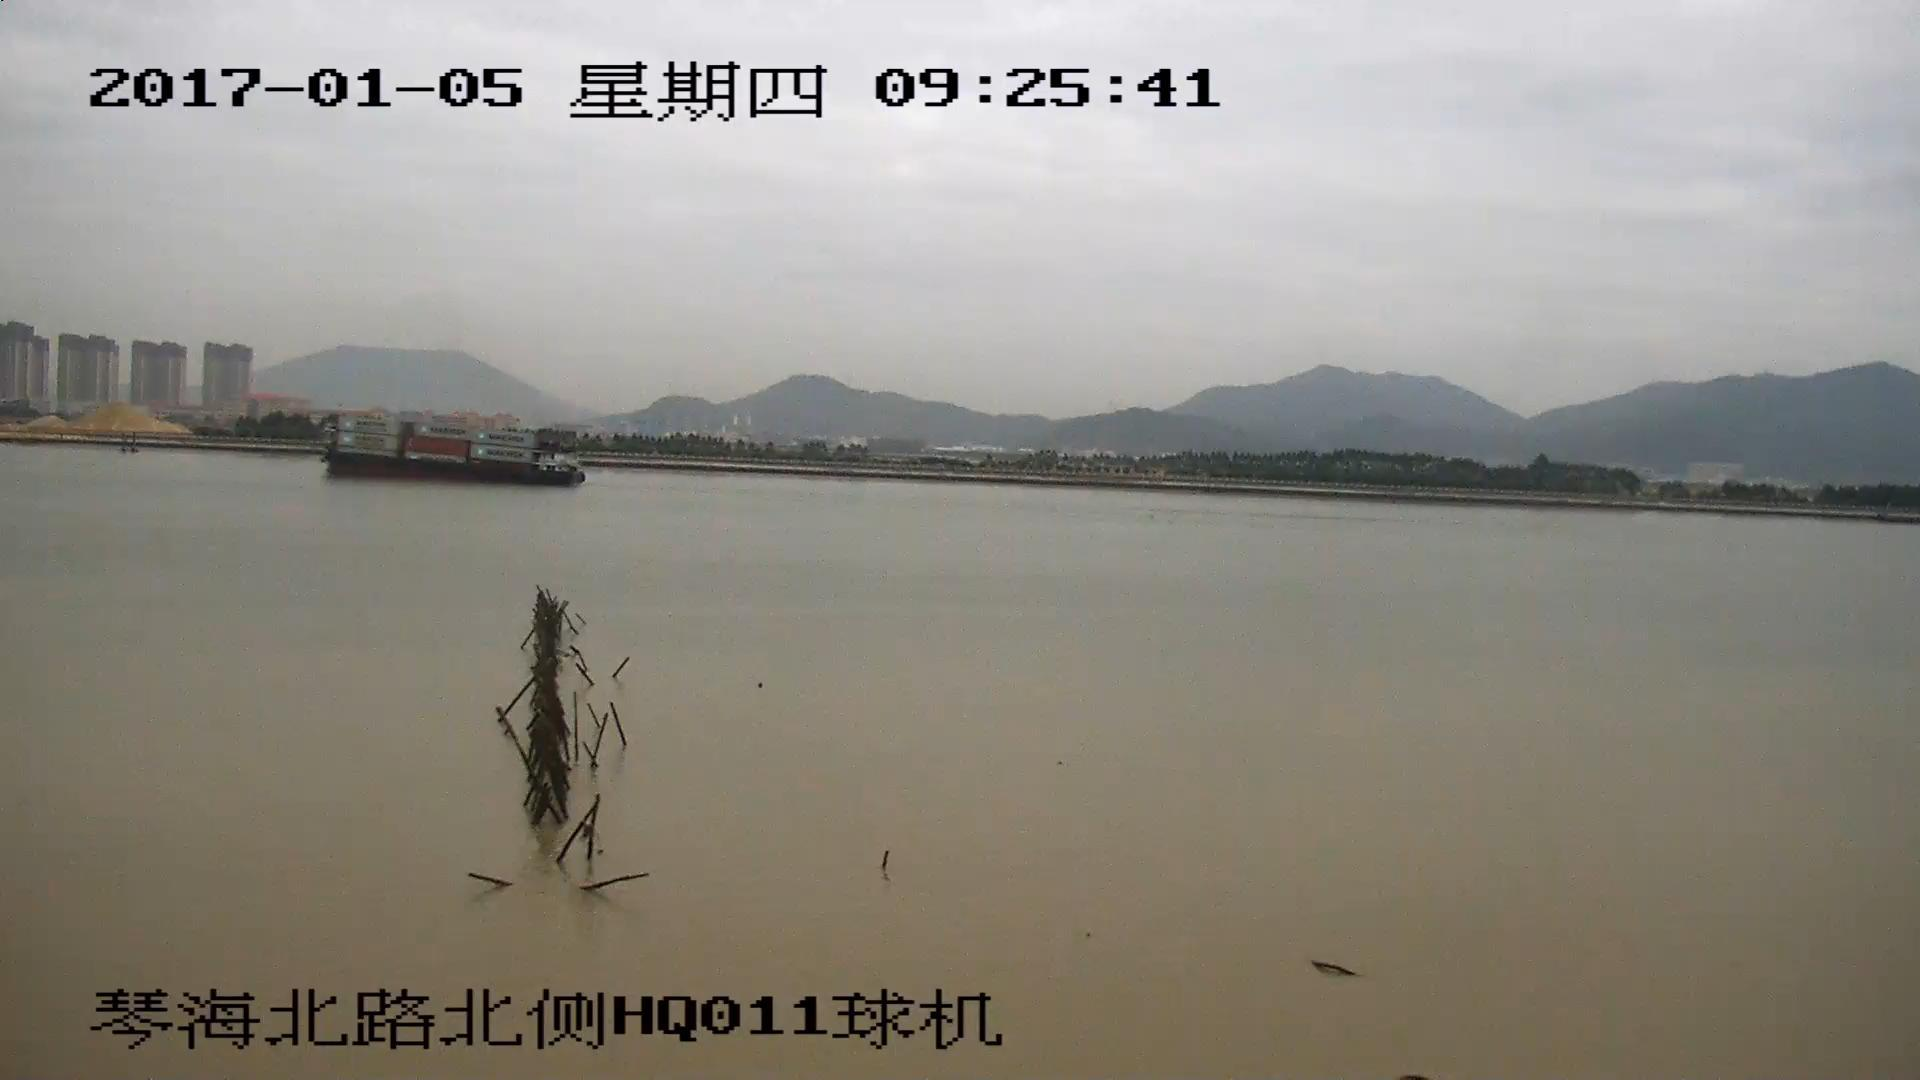Ship: (324, 419, 584, 485)
